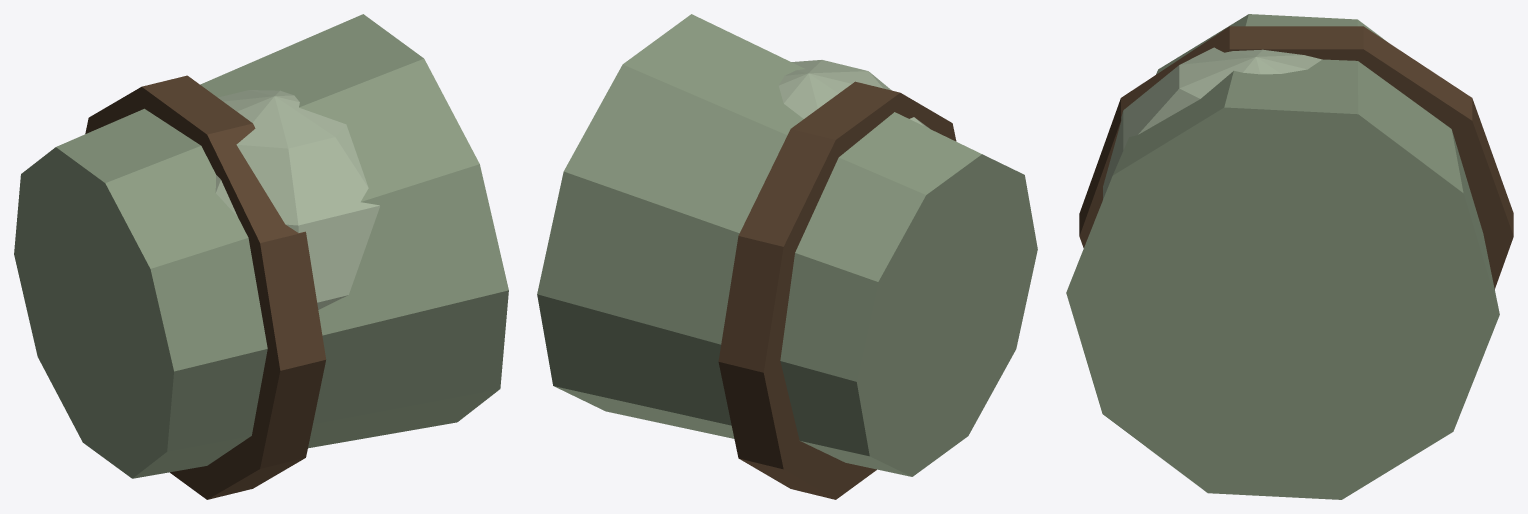
Rendered from stonebrow_shaman_arm_r.glb.
3 renders of one model, left to right at view 1: azimuth 30°, elevation 25°; view 2: azimuth 150°, elevation 25°; view 3: azimuth 270°, elevation 25°, orthographic. The views are drawn at different scales.
Parts seen in each view (by area): view 1: stonebrow_shaman_arm_r; view 2: stonebrow_shaman_arm_r; view 3: stonebrow_shaman_arm_r.
Part boxes in pixels (<box>): stonebrow_shaman_arm_r: <box>14,14,508,499</box>; stonebrow_shaman_arm_r: <box>537,14,1037,499</box>; stonebrow_shaman_arm_r: <box>1066,14,1513,499</box>.
Size of the model in its own units: 0.2935 by 0.3256 by 0.3298.
